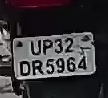2: (64, 35, 75, 53)
3: (53, 37, 64, 55)
4: (74, 53, 89, 72)
5: (46, 57, 56, 77)
6: (65, 56, 78, 73)
9: (56, 57, 65, 76)
D: (18, 59, 32, 78)
P: (42, 38, 54, 56)
R: (32, 59, 46, 77)
U: (28, 39, 42, 57)
